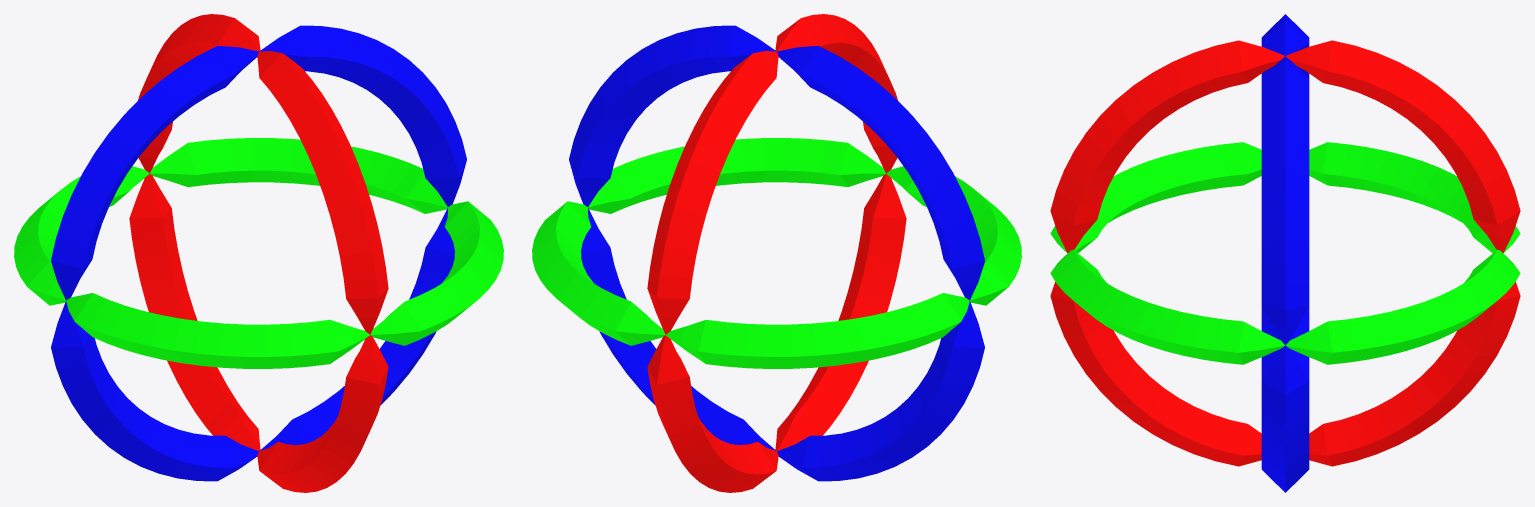
The model's file is rotate_collider.glb.
3 renders of one model, left to right at view 1: azimuth 30°, elevation 25°; view 2: azimuth 150°, elevation 25°; view 3: azimuth 270°, elevation 25°, orthographic. The views are drawn at different scales.
Visible parts, largest first — view 1: Torus, Torus.002, Torus.001; view 2: Torus, Torus.002, Torus.001; view 3: Torus.001, Torus.002, Torus.
Part boxes in pixels (x1=…): Torus: x1=51, y1=25, x2=466, y2=481; Torus.002: x1=14, y1=138, x2=503, y2=368; Torus.001: x1=129, y1=14, x2=388, y2=492; Torus: x1=569, y1=25, x2=984, y2=481; Torus.002: x1=532, y1=138, x2=1021, y2=368; Torus.001: x1=647, y1=14, x2=906, y2=492; Torus.001: x1=1050, y1=40, x2=1520, y2=466; Torus.002: x1=1050, y1=142, x2=1520, y2=364; Torus: x1=1261, y1=14, x2=1309, y2=492.
Bounding box in the file's own units: 2.16 × 2.16 × 2.16.
